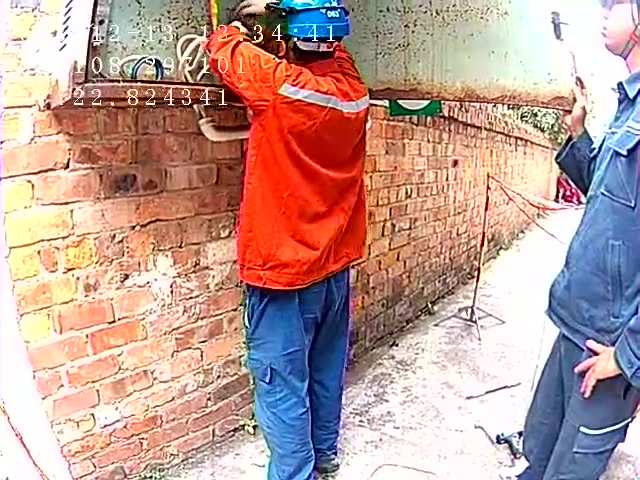downsuit: (245, 285, 351, 480), (518, 351, 640, 480)
halt: (261, 1, 354, 65)
hand: (574, 338, 628, 397), (560, 71, 587, 134)
person: (202, 1, 372, 480), (491, 2, 640, 479)
upsuit: (548, 69, 640, 380)
yupsuit: (204, 21, 372, 293)
